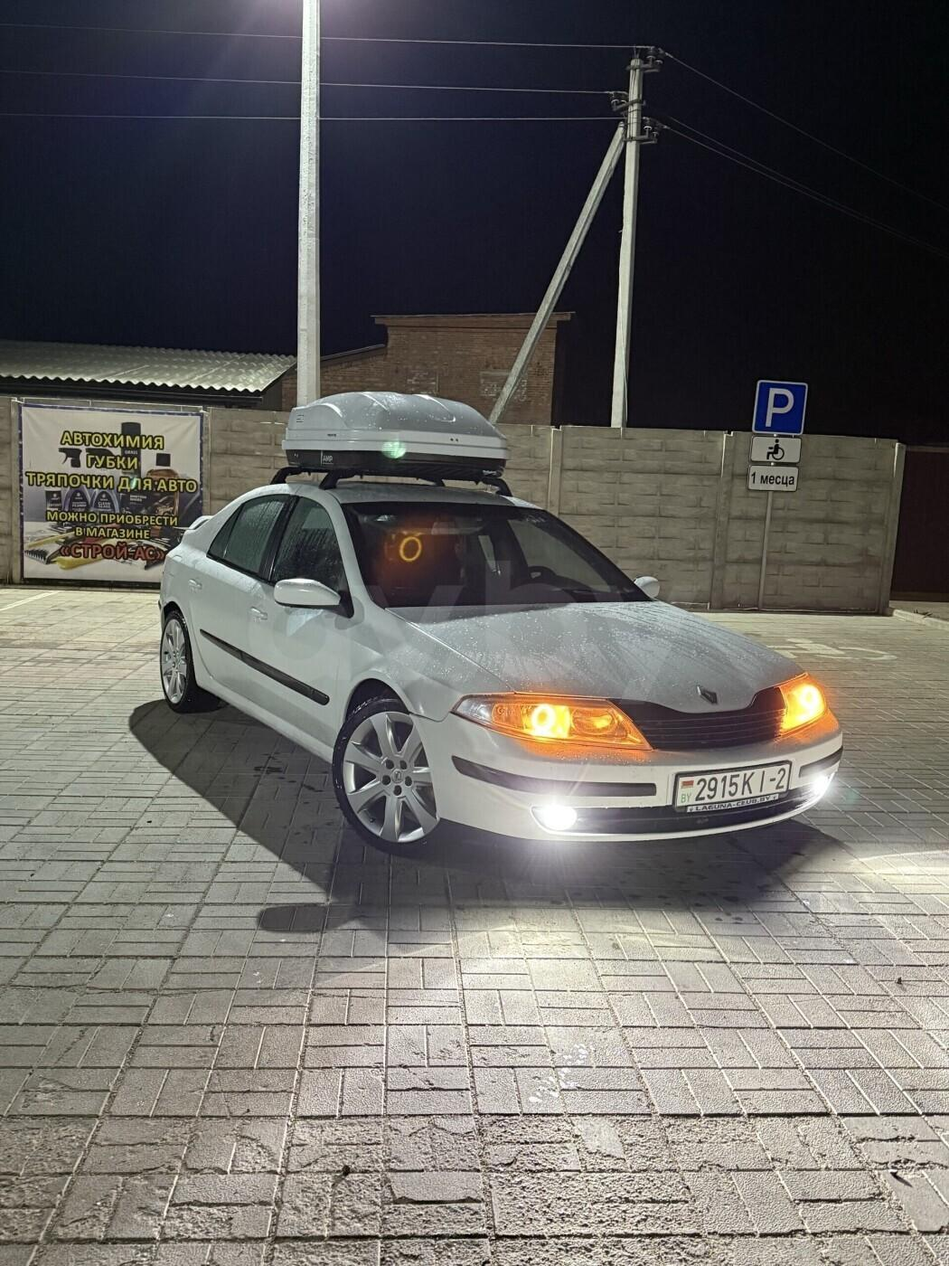Laguna_2001-2005: (160, 482, 841, 849)
